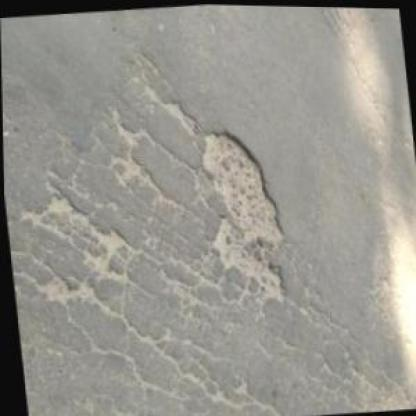pothole: (192, 121, 292, 309)
